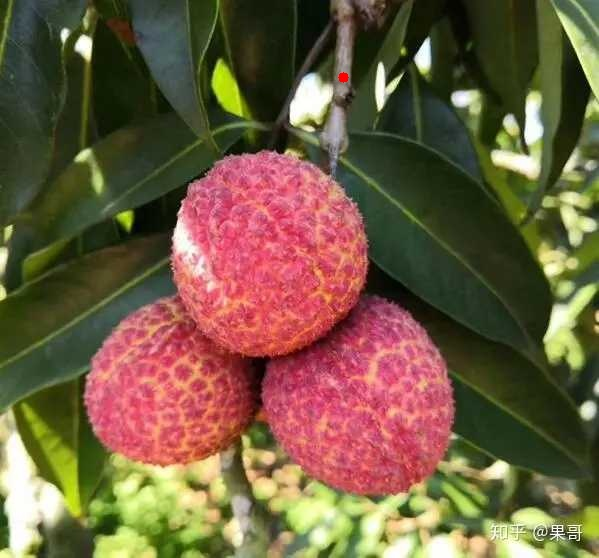litchi: (104, 166, 435, 483)
stem: (313, 1, 363, 172)
